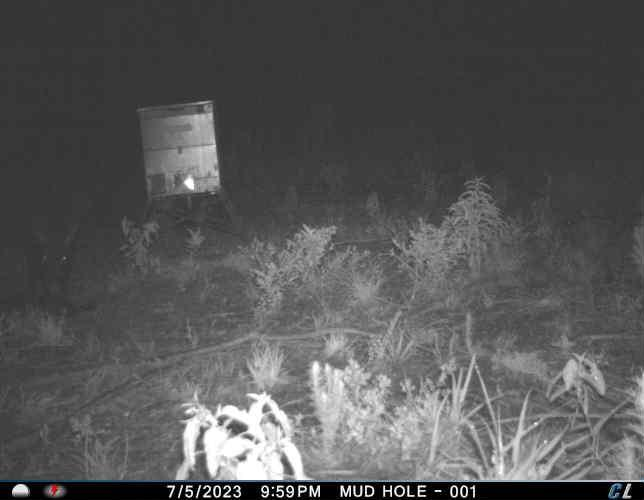Hog: (23, 210, 84, 313)
